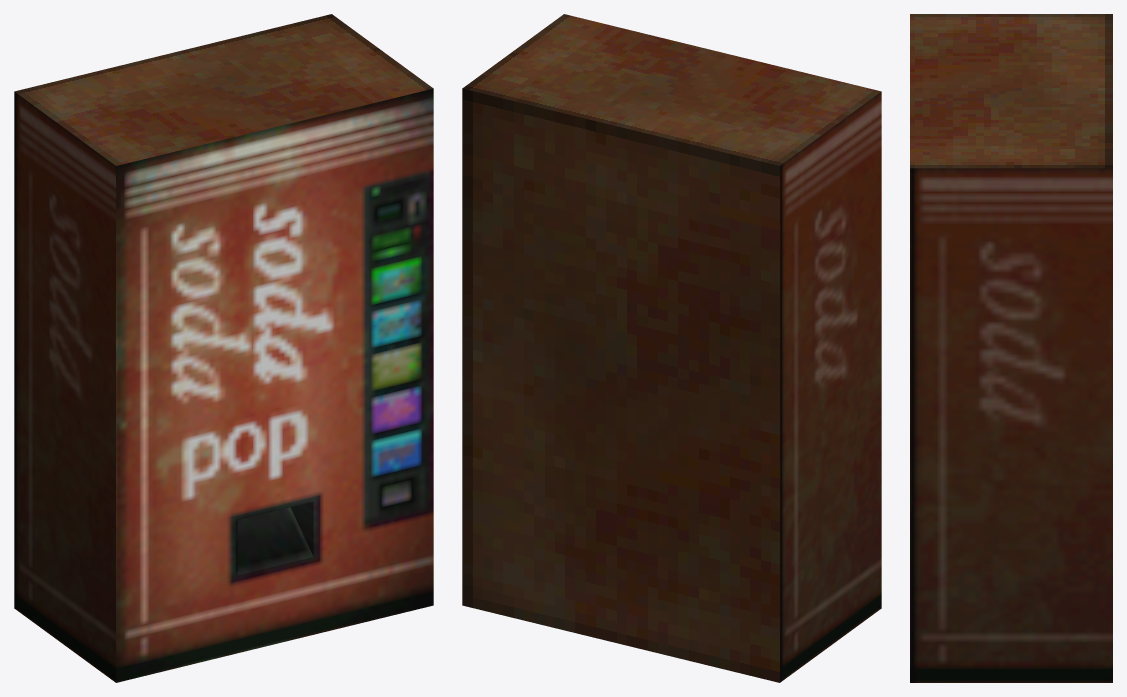
File: vending.fbx
3 renders of one model, left to right at view 1: azimuth 30°, elevation 25°; view 2: azimuth 150°, elevation 25°; view 3: azimuth 270°, elevation 25°, orthographic.
Parts seen in each view (by area): view 1: Body, Button5, Button4, Button1, Button3, Button2; view 2: Body; view 3: Body.
Part boxes in pixels (left/top/right/bottom): Body: left=14, top=14, right=433, bottom=682; Button5: left=373, top=425, right=422, bottom=480; Button4: left=373, top=381, right=422, bottom=436; Button1: left=373, top=253, right=422, bottom=308; Button3: left=373, top=338, right=422, bottom=393; Button2: left=373, top=297, right=422, bottom=350; Body: left=462, top=14, right=881, bottom=682; Body: left=910, top=14, right=1112, bottom=682.
Size of the model in its own units: 180 by 100 by 280.
